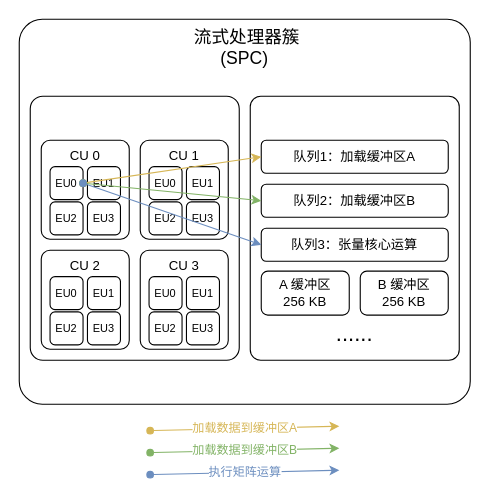
Some shapes in this 490 by 504 pixel diagram are drawn without their labels. The shapes that lost their labels are listed below. From the top down, each one's box as (x1, y1, x2, y2) in pixels, then its label:
(29, 95, 239, 360): 向量引擎 (Vector Engine)
(249, 95, 459, 360): 张量核心 (Tensor-Core)
